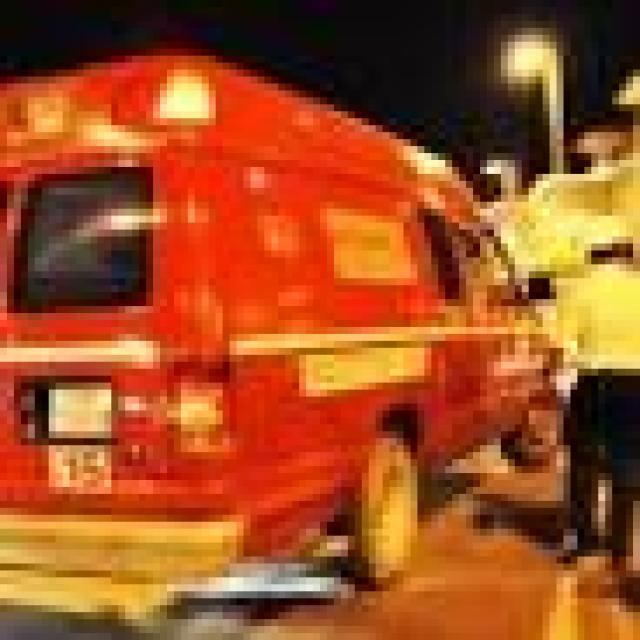ambulance: (6, 55, 565, 592)
